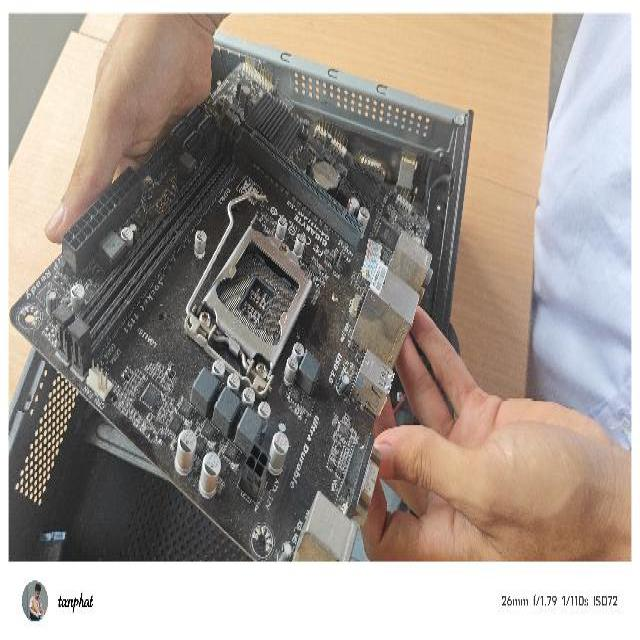Mainboard: (10, 43, 439, 561)
